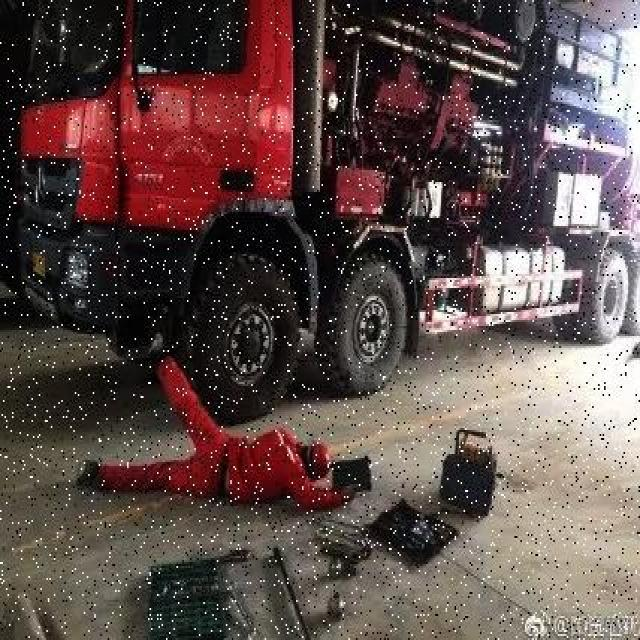fall: (86, 338, 352, 504)
